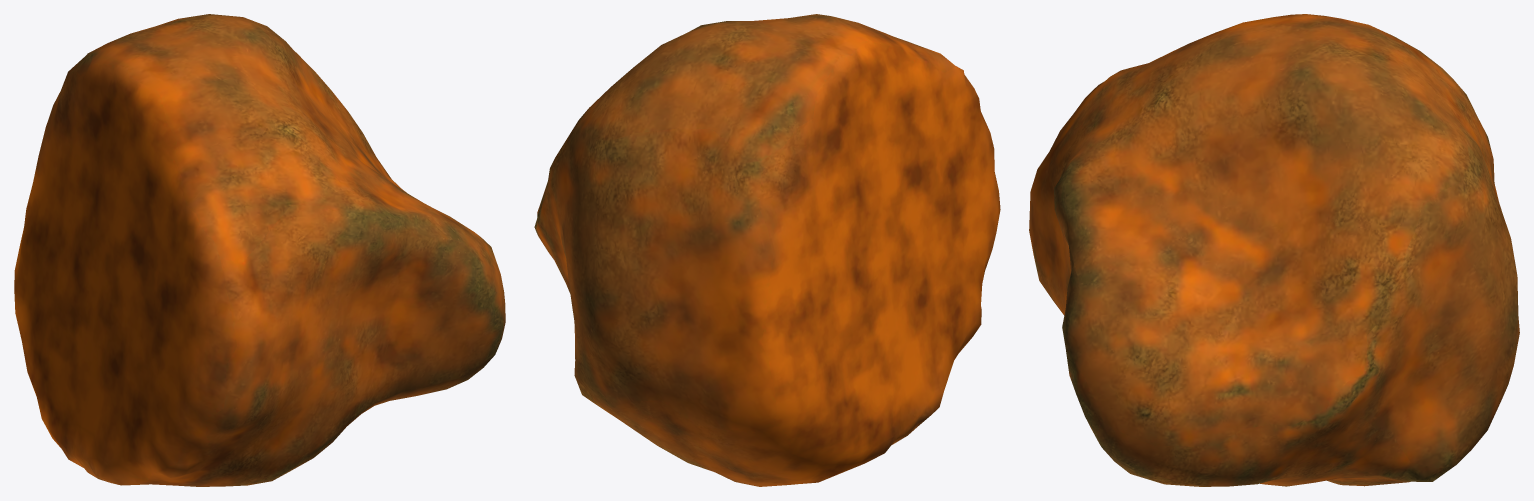
The model's file is amber.glb.
3 renders of one model, left to right at view 1: azimuth 30°, elevation 25°; view 2: azimuth 150°, elevation 25°; view 3: azimuth 270°, elevation 25°, orthographic. The views are drawn at different scales.
Visible parts, largest first — view 1: 5_amber_lr_PBR_0; view 2: 5_amber_lr_PBR_0; view 3: 5_amber_lr_PBR_0.
Boxes of the visible parts, box(x1,y1,x2,y2) form: 5_amber_lr_PBR_0: box(14, 14, 505, 486); 5_amber_lr_PBR_0: box(534, 14, 1000, 486); 5_amber_lr_PBR_0: box(1029, 14, 1519, 486).
Bounding box in the file's own units: 87.93 × 99.67 × 97.25.
Materials: 3 (2 with a texture image).
